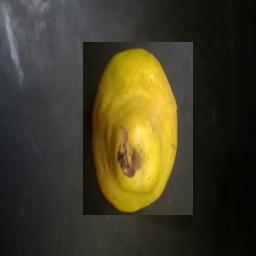Pear Fresh: (83, 42, 193, 215)
